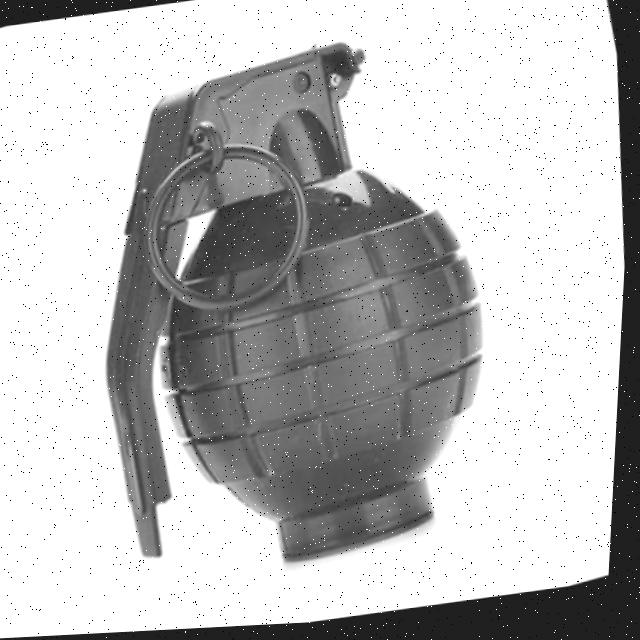grenade: (3, 8, 551, 636)
